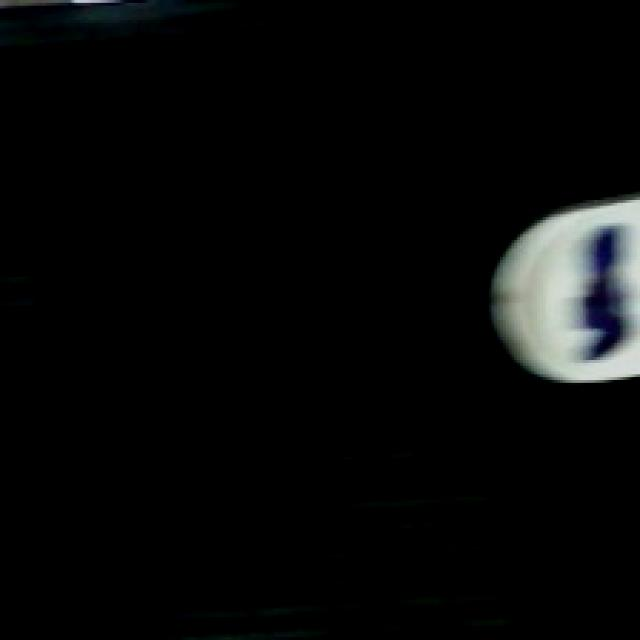defected: (480, 188, 637, 388)
